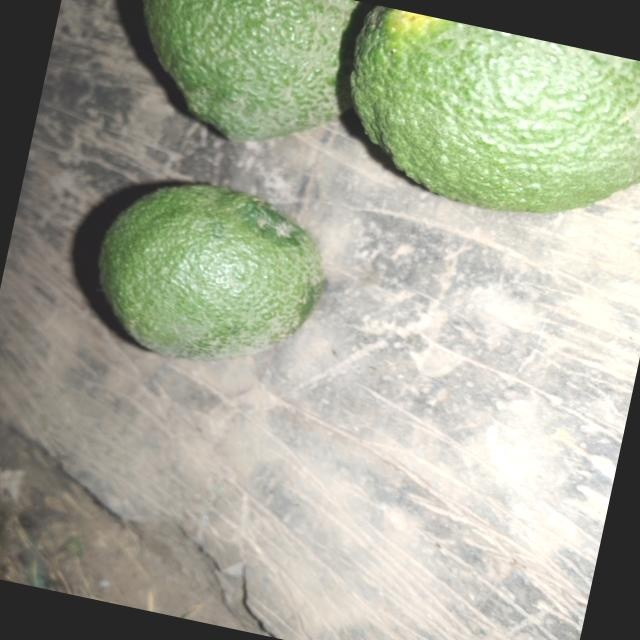agrume: (309, 0, 640, 247), (64, 152, 377, 408), (94, 0, 388, 176)
